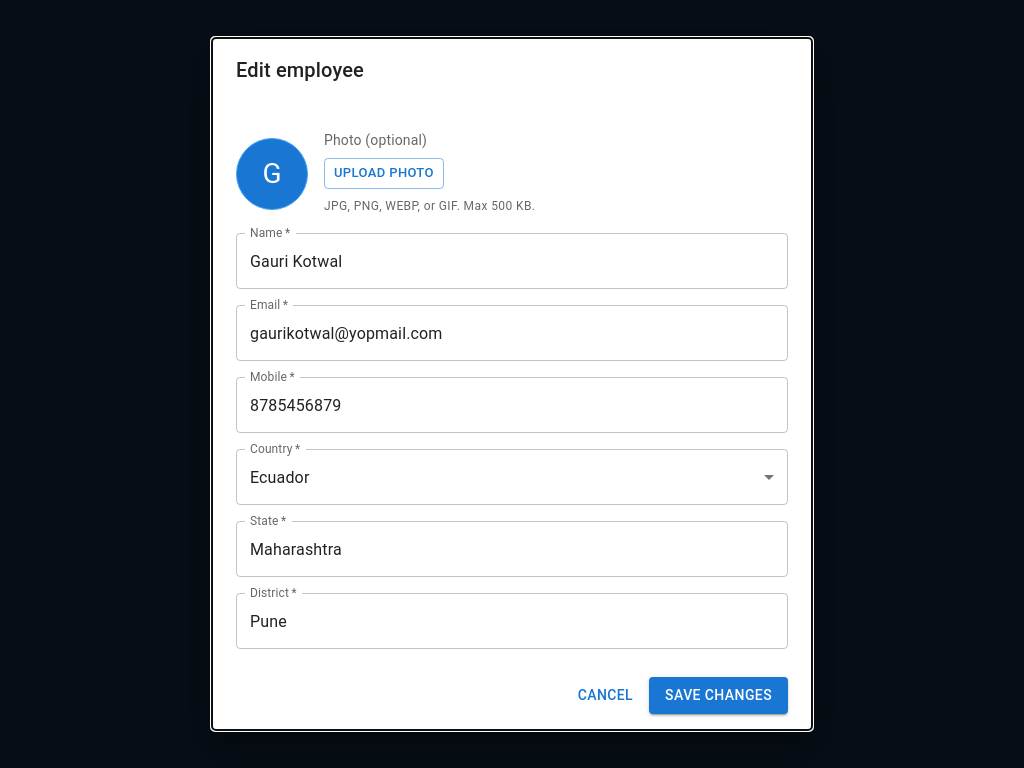
Test: EmployeeForm › blocks edit when required values are cleared
The width and height of the screenshot is (1024, 768).
Clear the field labelled "Email *" at (512, 333), box [236,305,788,361]
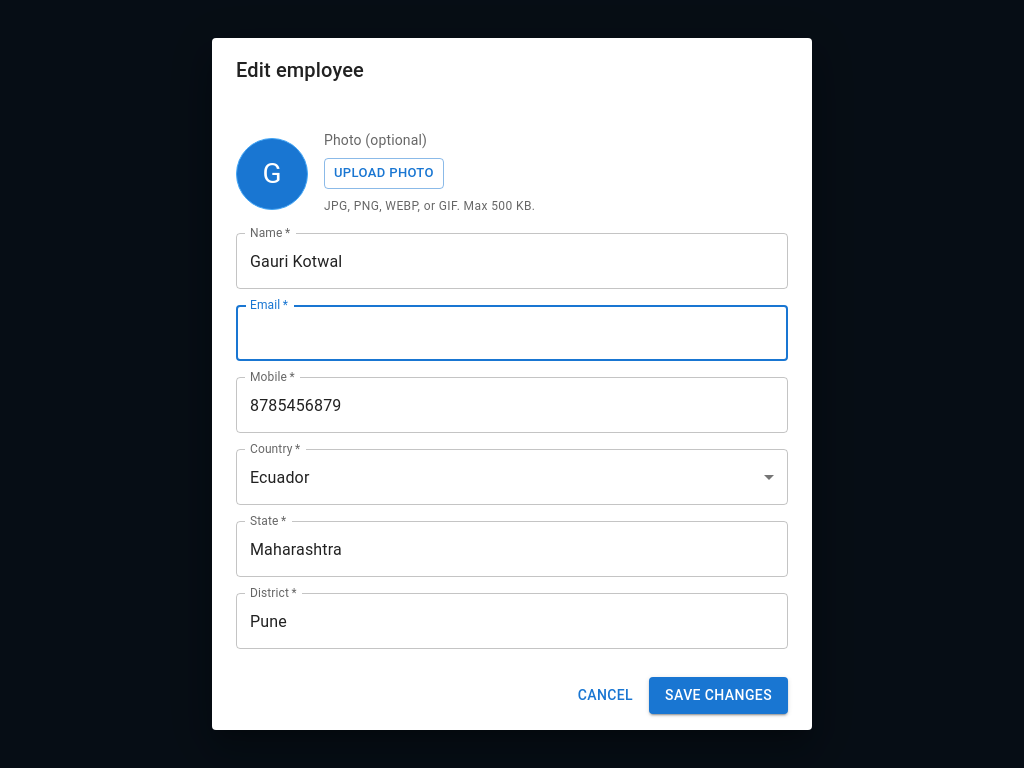
Clear the field labelled "Mobile *" at (512, 405), box [236,377,788,433]
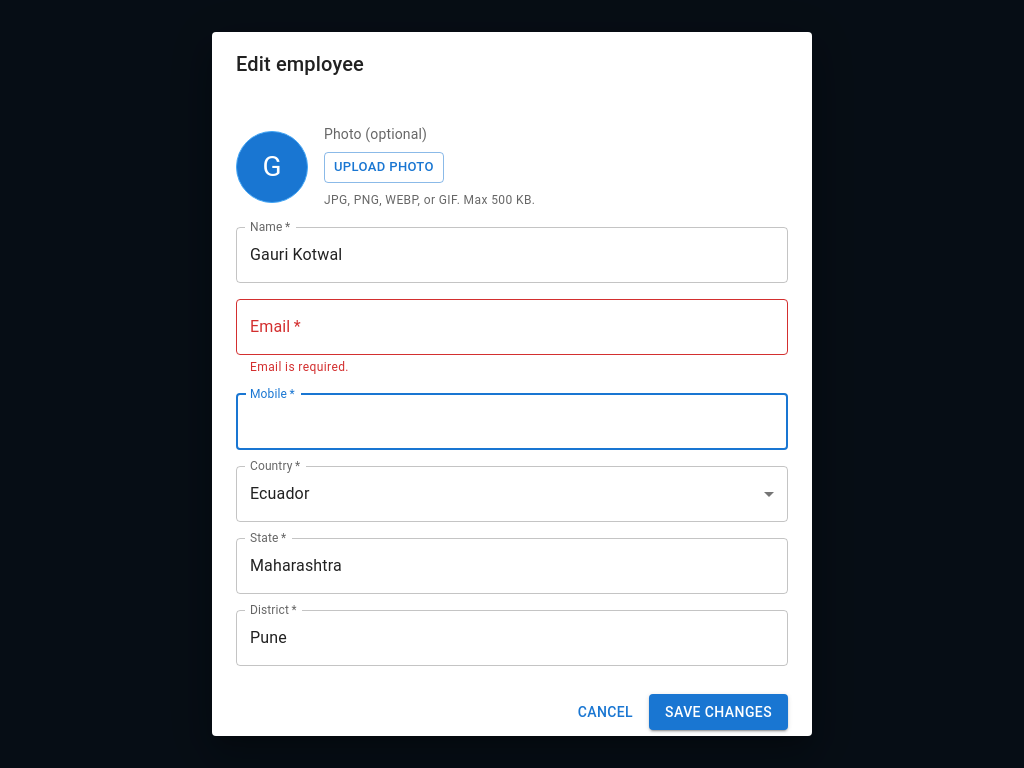
Click the button "Save changes" at (719, 712), box [649,694,788,730]
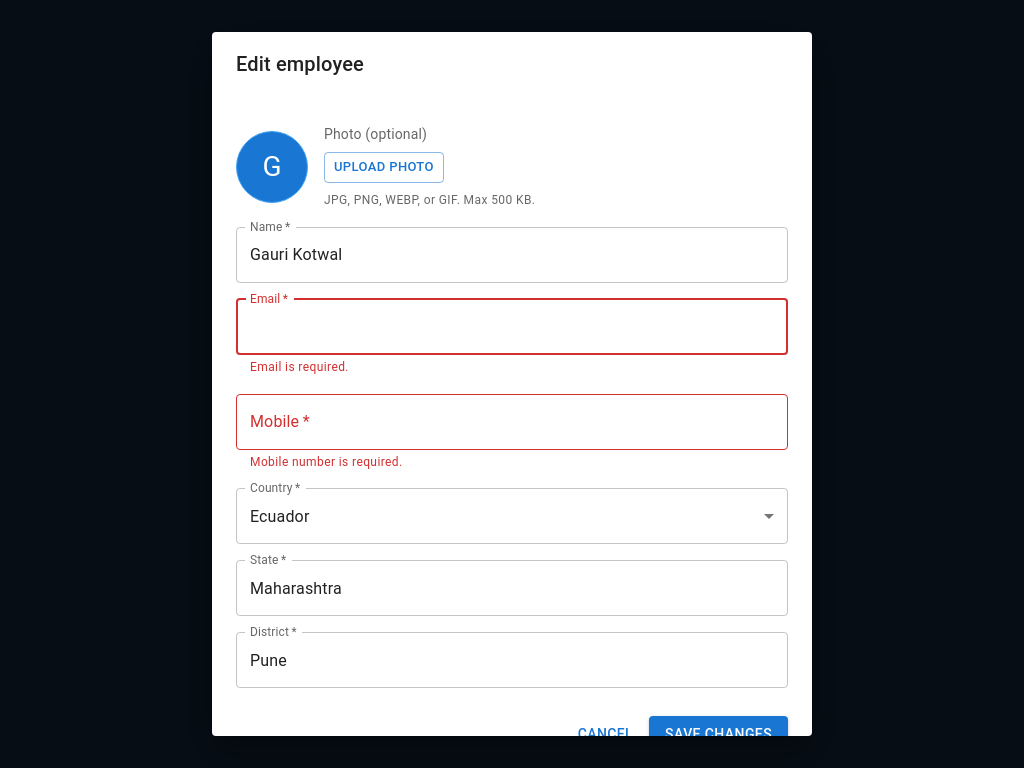
Now the text "Email is required." is shown, box [250,360,349,374]
Now the text "Mobile number is required." is shown, box [250,455,403,469]
